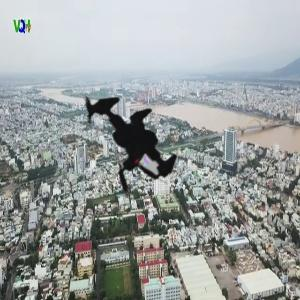drone: (41, 61, 209, 229)
